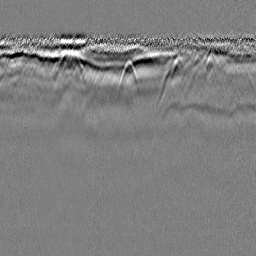cavity: (115, 57, 140, 100)
